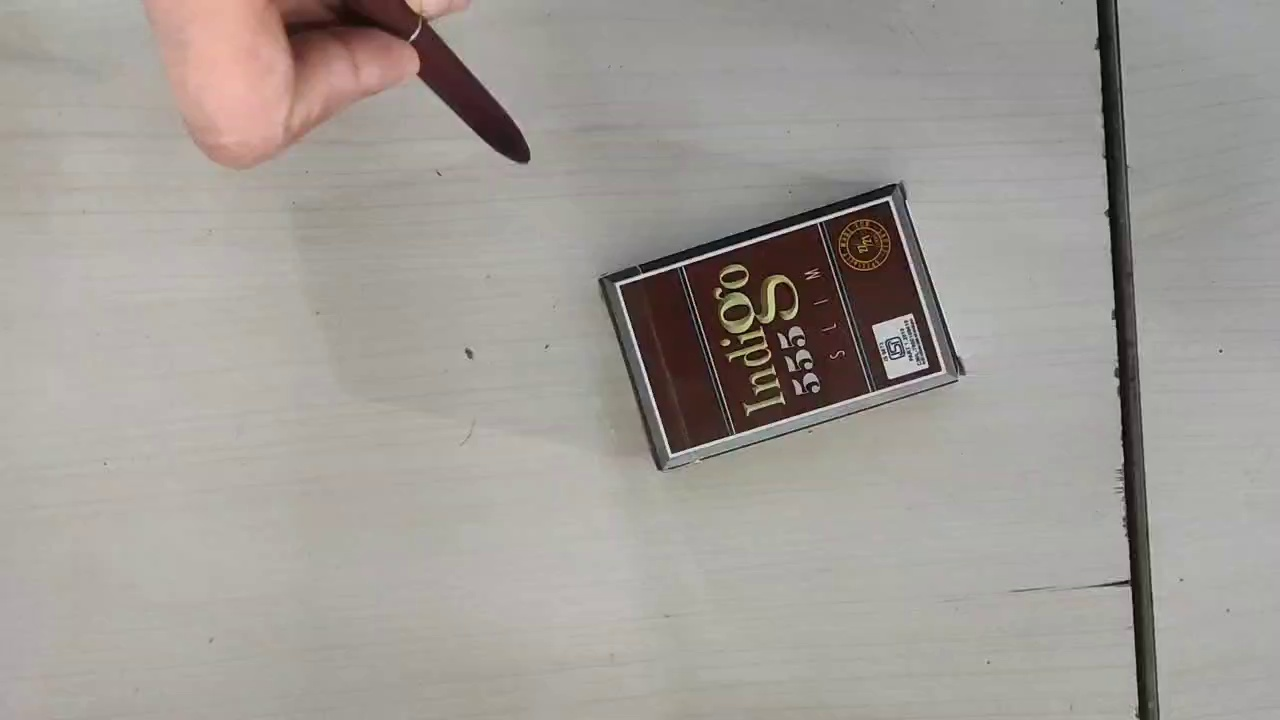BEX: (616, 195, 946, 455)
